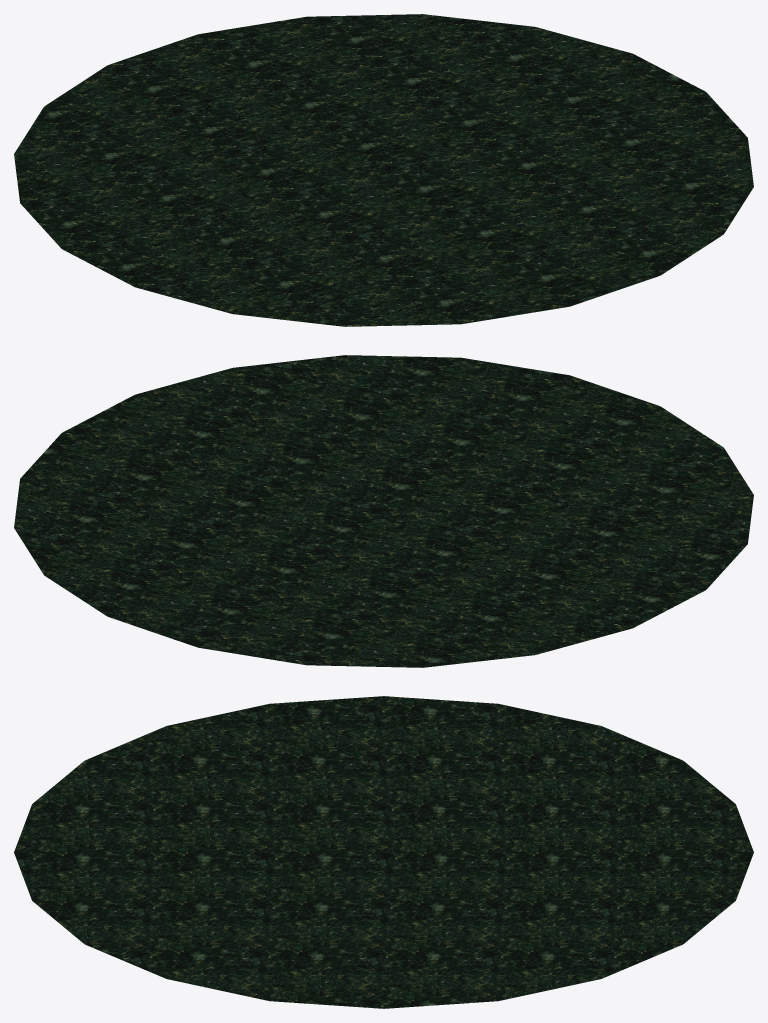
File: GROUND.fbx
3 renders of one model, top to bottom at view 1: azimuth 30°, elevation 25°; view 2: azimuth 150°, elevation 25°; view 3: azimuth 270°, elevation 25°, orthographic.
Visible parts, largest first — view 1: GROUND; view 2: GROUND; view 3: GROUND.
Boxes of the visible parts, left/top/right/bottom form: GROUND: left=14, top=14, right=753, bottom=326; GROUND: left=14, top=355, right=753, bottom=667; GROUND: left=14, top=696, right=753, bottom=1008.
Size of the model in its own units: 25.52 by 0 by 25.52.
1 material, 1 textured.
